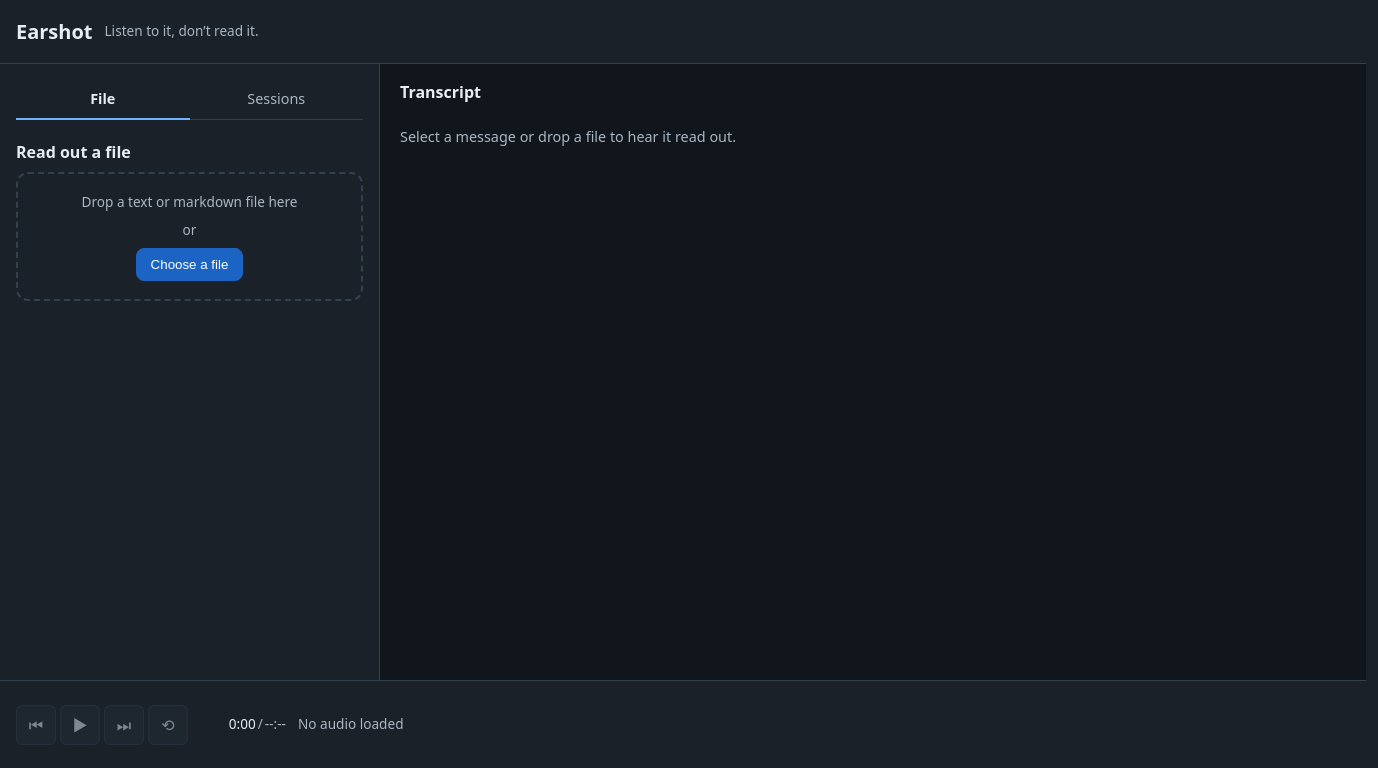
Test: Session pane — listbox + listen path › renders honest status markers: degraded non-color marker + refused refusal, no level control
Click the tab "Sessions": (276, 100) [190,80,363,120]
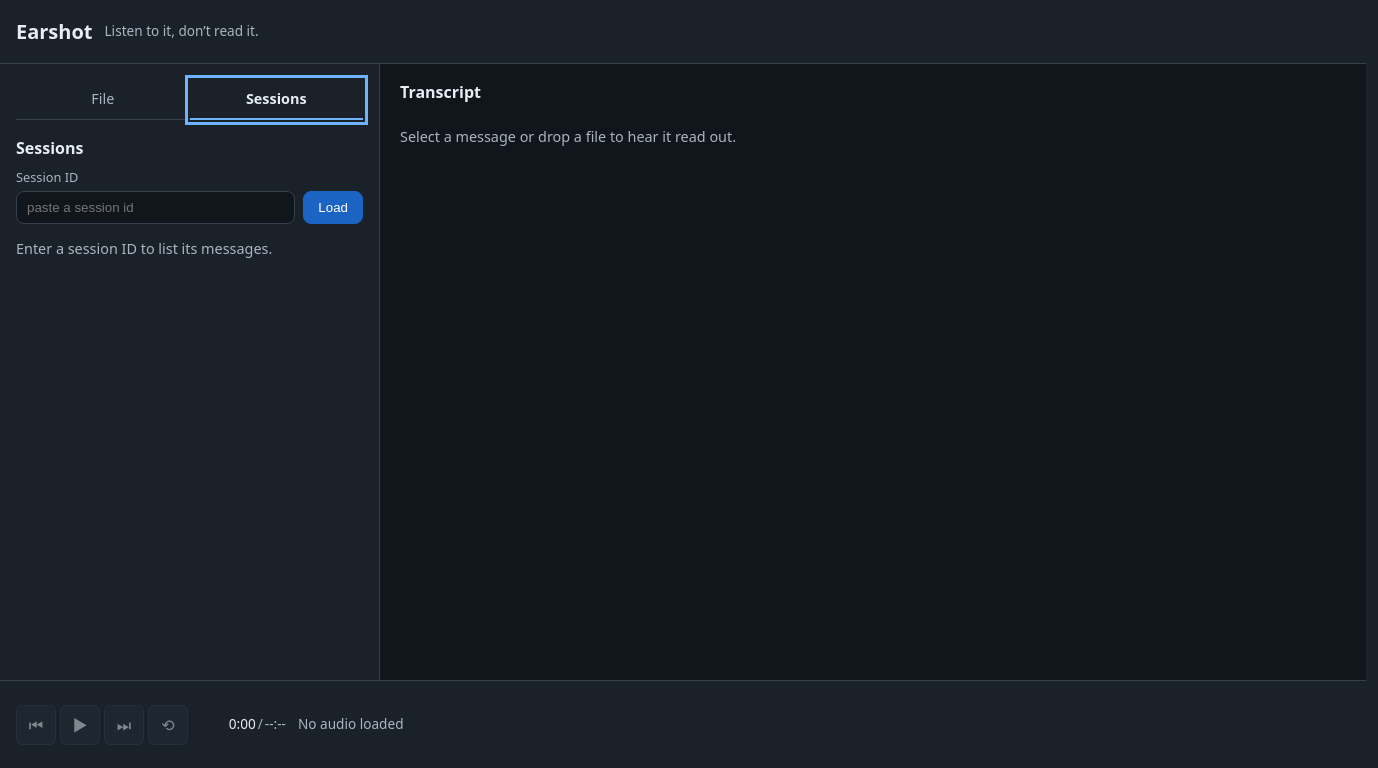
In the field labelled "Session ID": (156, 207) [16,191,295,224], type "demo-session-001"
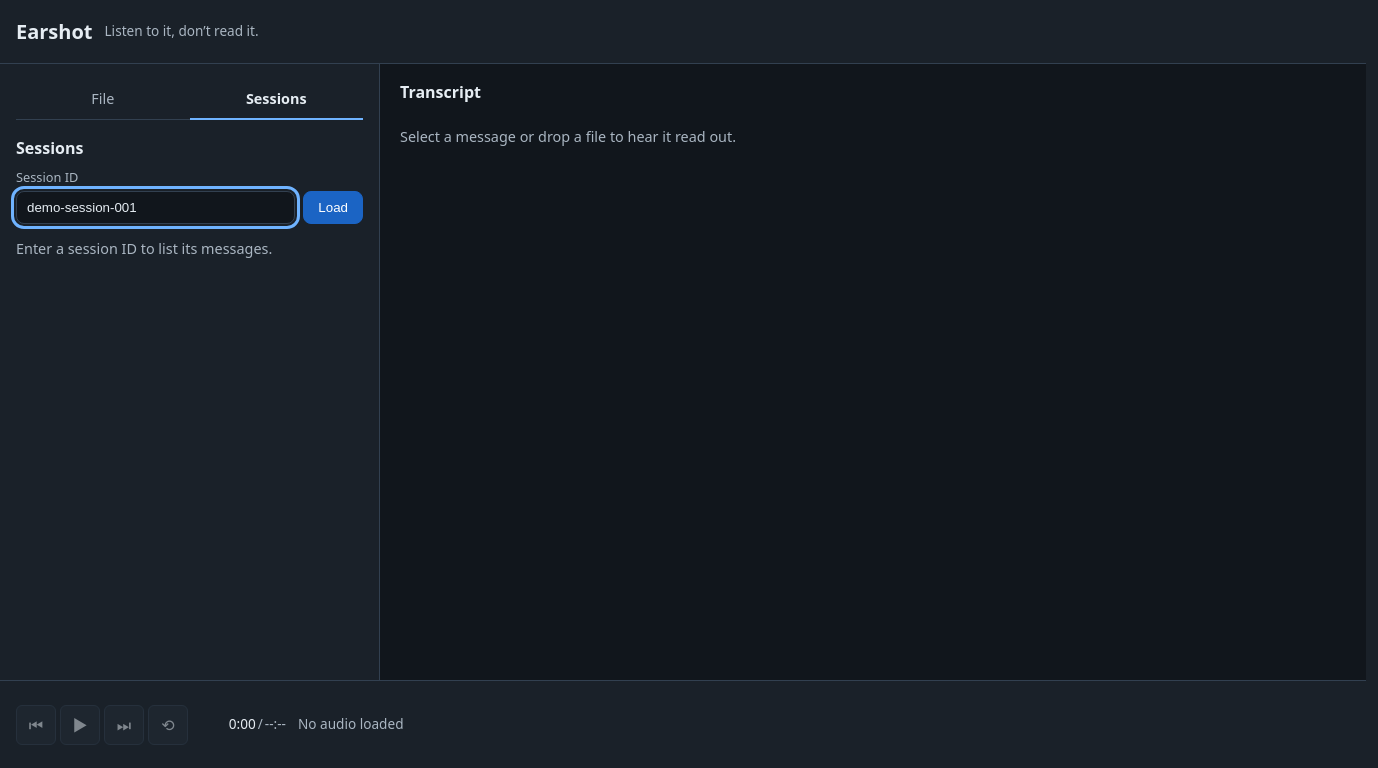
Click the button "Load": (333, 207) [303,191,363,224]
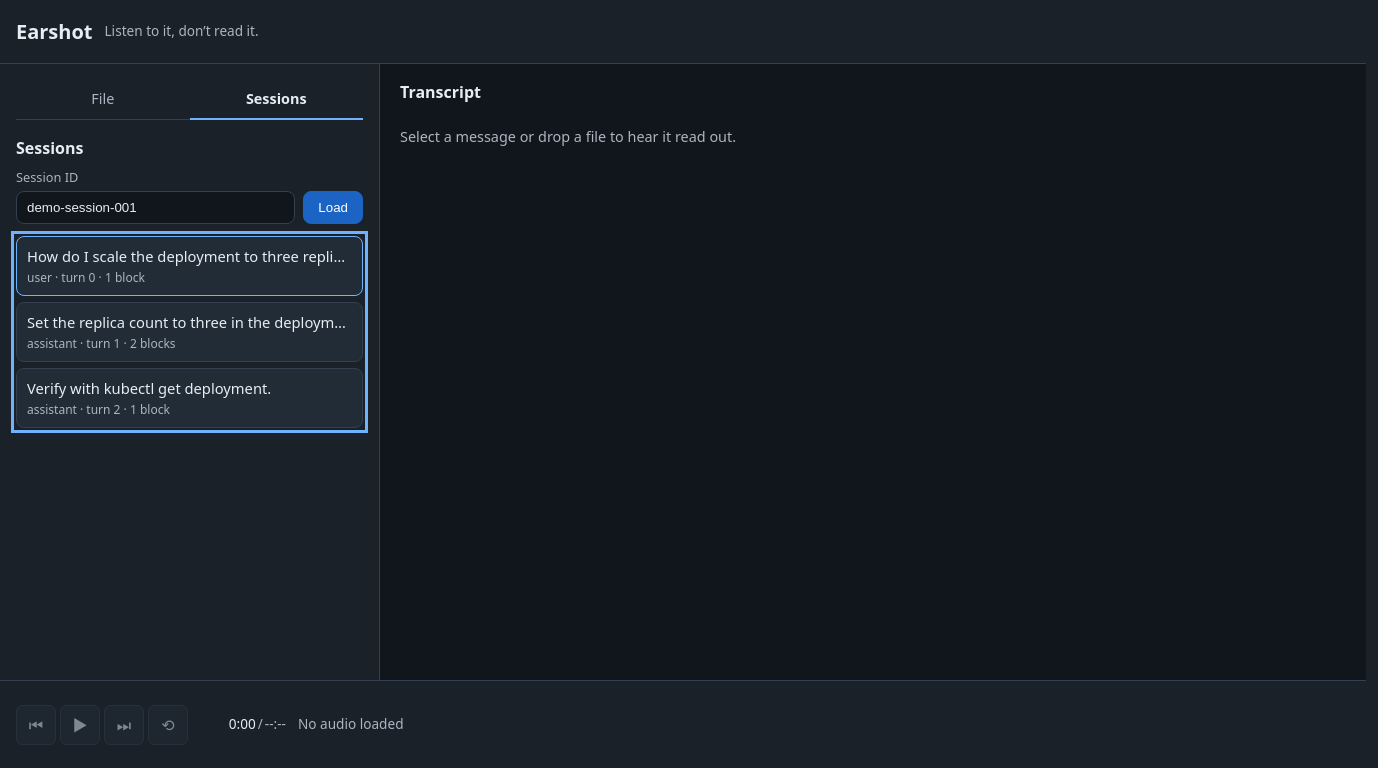
Click the 2nd option: (190, 332) [16,302,363,362]
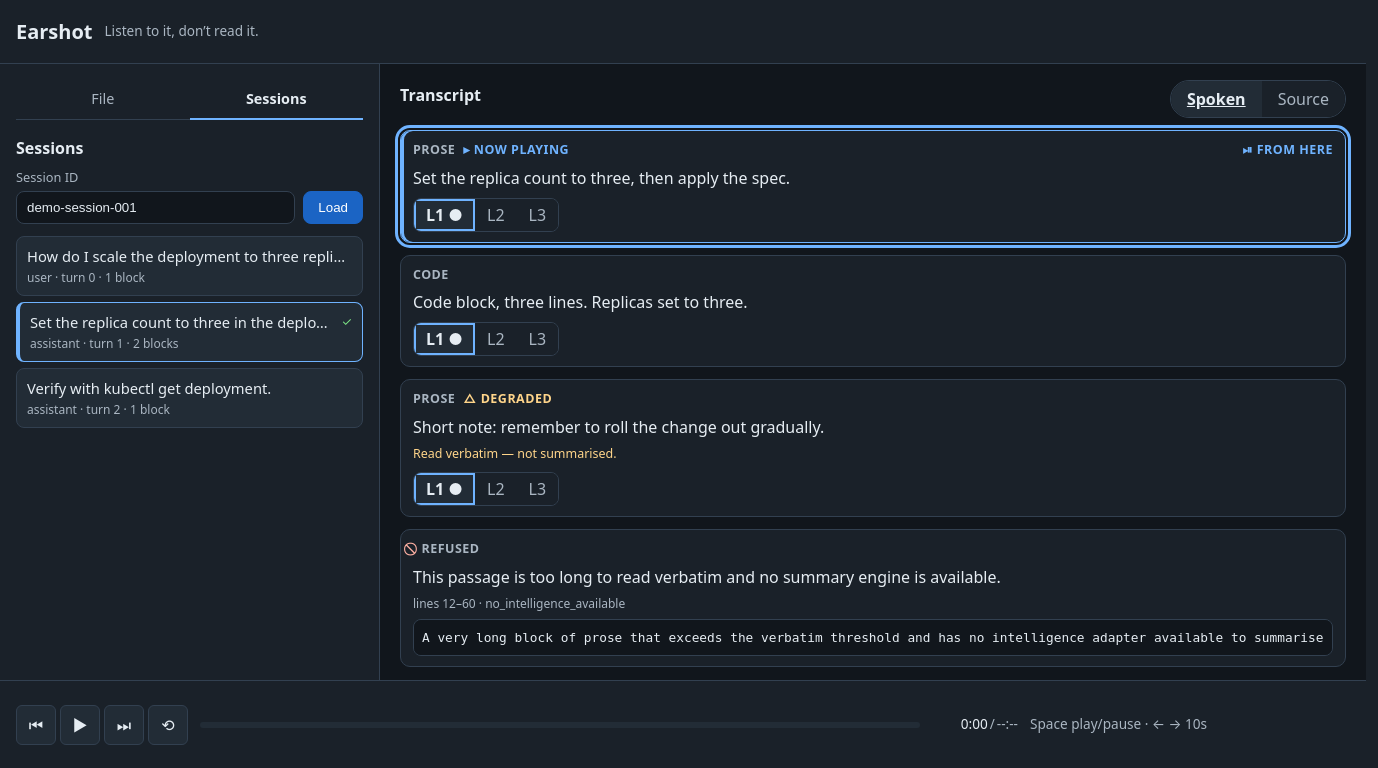
Result: the element with test id "degraded-marker" is shown at [463,390,552,409]
Result: the text "too long to read verbatim" is shown at [413,566,1001,588]
Result: the element that starts with "Refused" is shown at [400,529,1346,667]
